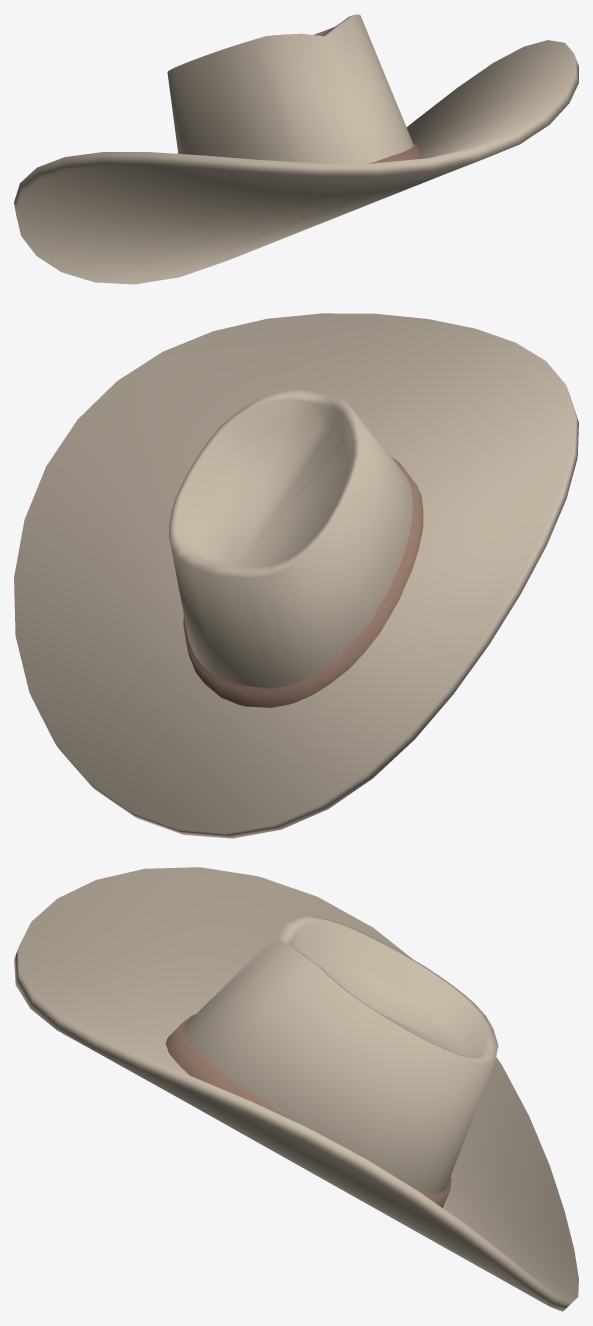
File: länkkäri.fbx
3 renders of one model, top to bottom at view 1: azimuth 30°, elevation 25°; view 2: azimuth 150°, elevation 25°; view 3: azimuth 270°, elevation 25°, orthographic. The views are drawn at different scales.
Parts seen in each view (by area): view 1: Circle.001; view 2: Circle.001; view 3: Circle.001.
Part boxes in pixels (<box>): Circle.001: <box>14,14,578,284</box>; Circle.001: <box>14,313,578,838</box>; Circle.001: <box>14,867,578,1311</box>.
Bounding box in the file's own units: 0.2642 × 0.1816 × 0.2637.
